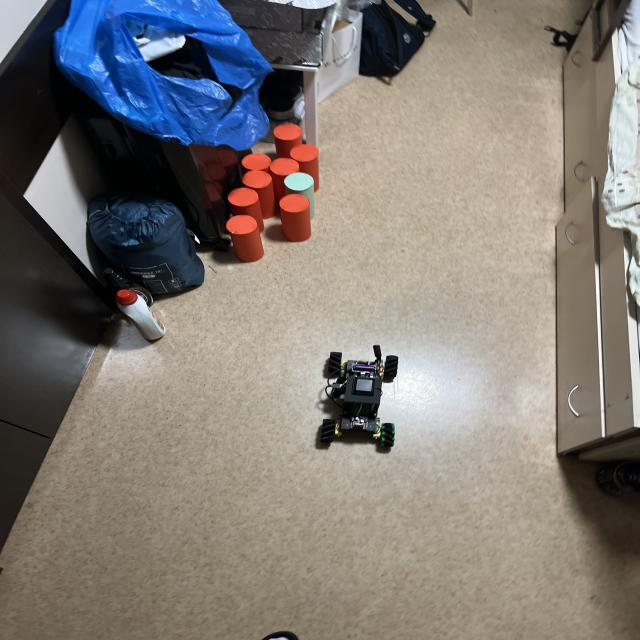robot: (316, 345, 398, 447)
